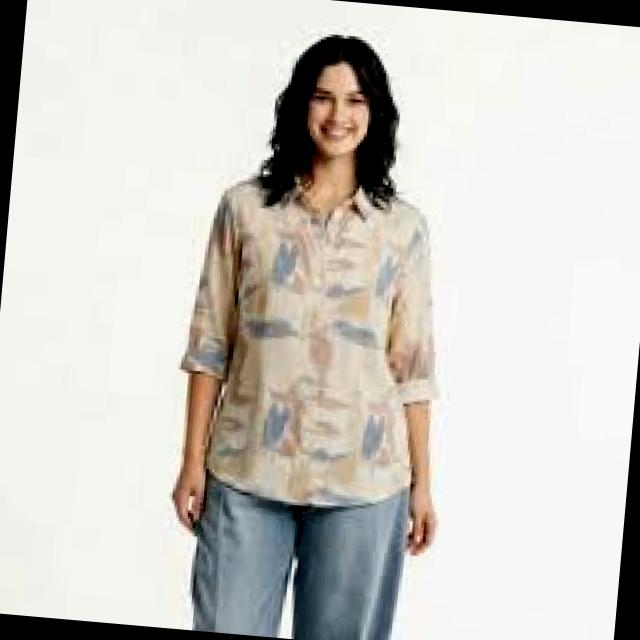face: (306, 61, 371, 160)
lower-wear: (190, 472, 409, 639)
top-wear: (181, 177, 438, 507)
